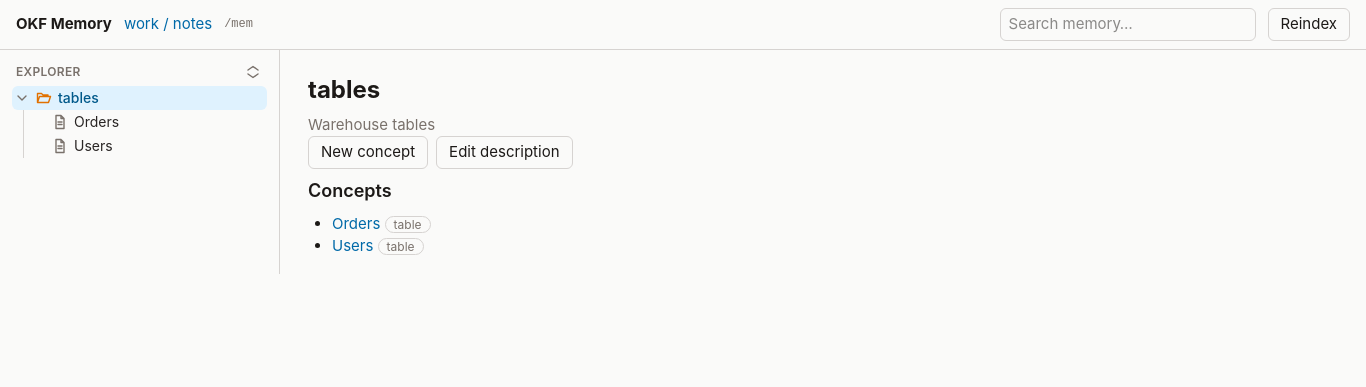
it: workspaces › scopes concept links to the index
What coordinates should you click on to do the following:
click the link "Orders" below "Explorer"
I would click on:
 (86, 121)
Its box is [52,112,119,130].
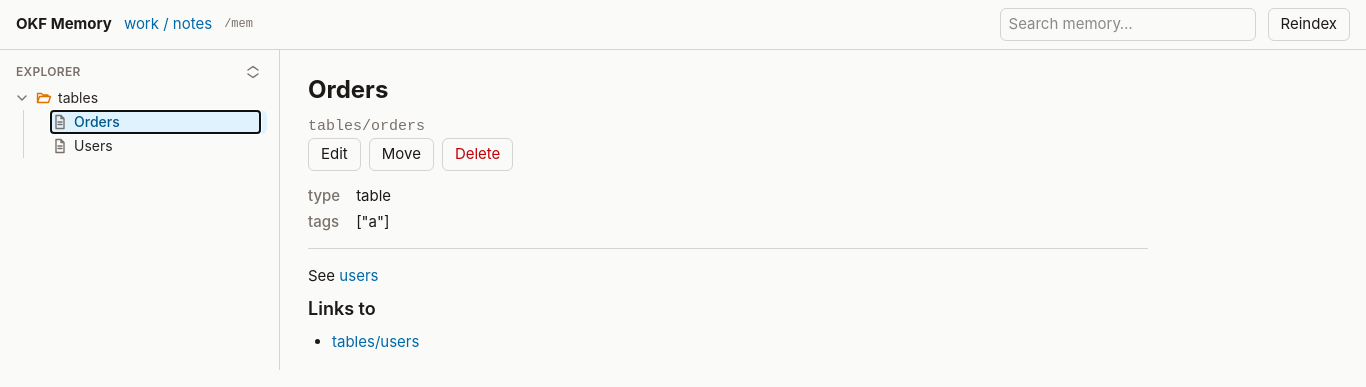
Expected: the heading "Orders" is shown, [308,74,388,104]
